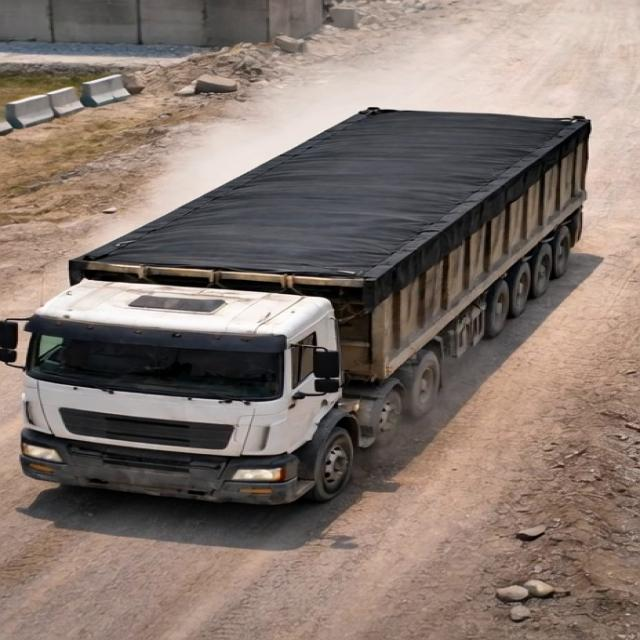Box: (61, 107, 602, 284)
Truck: (11, 69, 616, 490)
